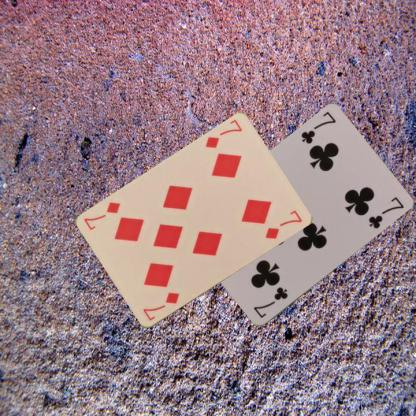7c: (298, 109, 338, 146), (251, 284, 289, 320)
7d: (140, 290, 181, 323), (202, 118, 243, 150)
